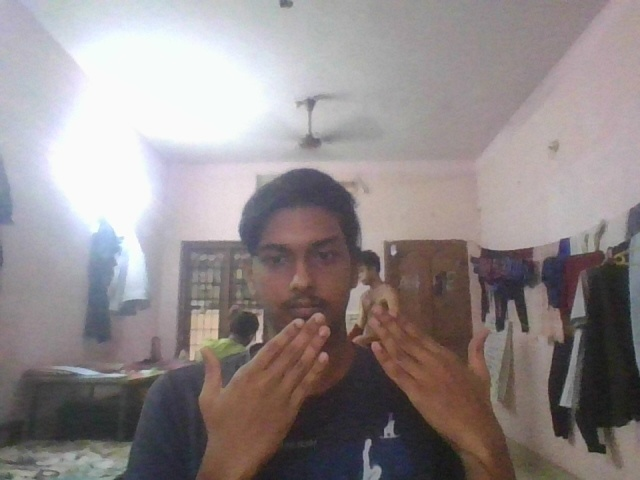thankyou: (196, 304, 508, 458)
